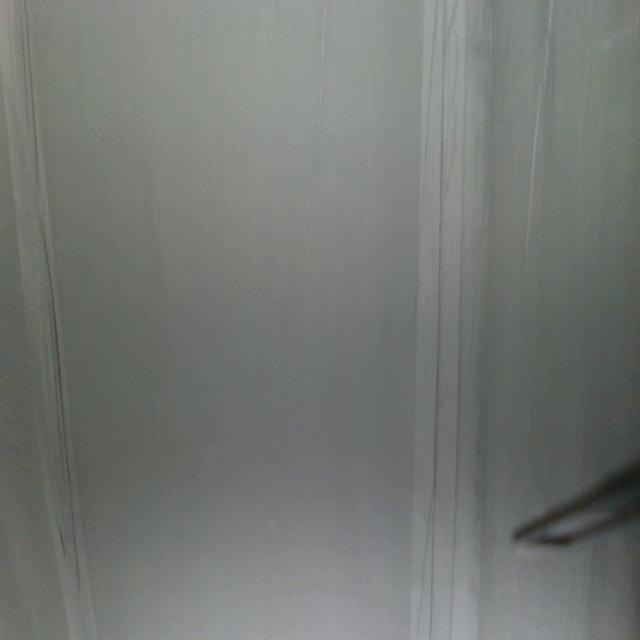crease: (10, 0, 91, 595), (410, 0, 471, 636), (520, 0, 555, 249), (303, 0, 332, 254)
